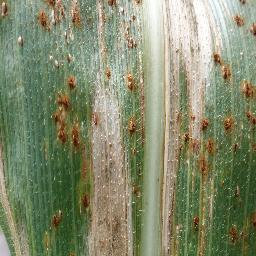Corn_Blight: (91, 0, 144, 251), (165, 0, 207, 107), (175, 108, 236, 174), (51, 50, 85, 153), (1, 132, 29, 255), (242, 76, 256, 256), (156, 108, 173, 253), (171, 215, 241, 250), (33, 0, 85, 39), (231, 0, 256, 40), (210, 45, 231, 88), (45, 210, 66, 234), (75, 156, 88, 186), (78, 187, 92, 213), (0, 1, 12, 26), (15, 35, 26, 52)
